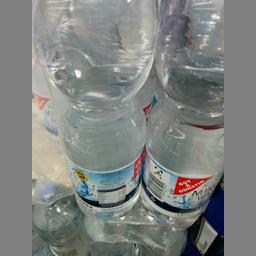water: (34, 0, 156, 219), (140, 0, 222, 225)
